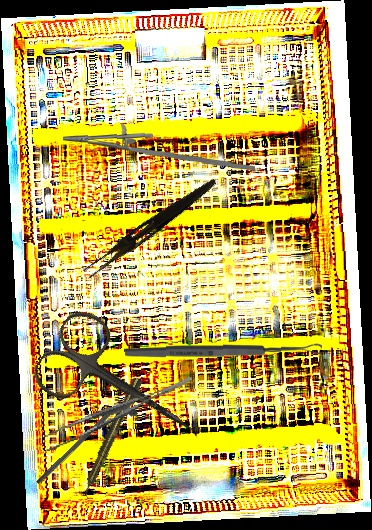Dressing Forceps: (82, 171, 219, 284)
Handpiece: (78, 376, 144, 499)
Hook Surgical: (35, 392, 133, 486)
Iris Scissors: (26, 302, 218, 471)
Needle Holder: (62, 120, 257, 172)
Surgical Spoon: (124, 342, 323, 360)
Tissue Forceps: (37, 376, 201, 452)
